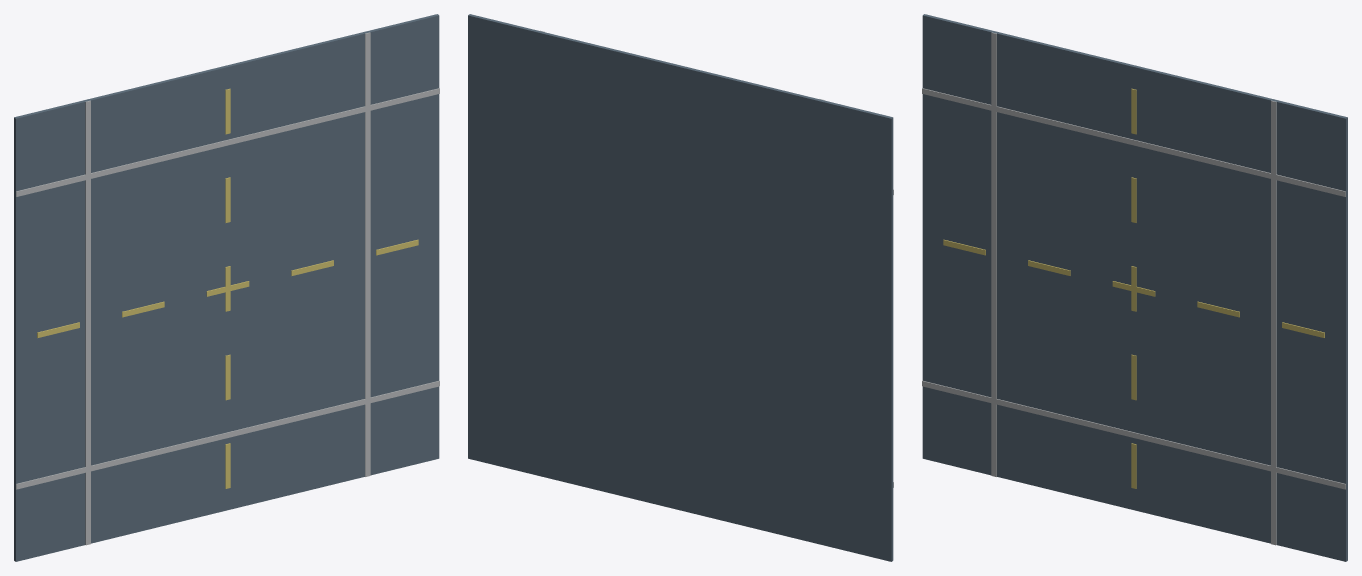
The model's file is road-intersection.glb.
3 views of the same model, side by side, from view 1: azimuth 30°, elevation 25°; view 2: azimuth 150°, elevation 25°; view 3: azimuth 330°, elevation 25° (orthographic).
Visible parts, largest first — view 1: world; view 2: world; view 3: world.
Boxes of the visible parts, x1,y1,x2,y2 form: world: (14, 14, 439, 561); world: (468, 14, 893, 561); world: (922, 14, 1347, 561).
Size of the model in its own units: 10 by 10 by 0.1.
